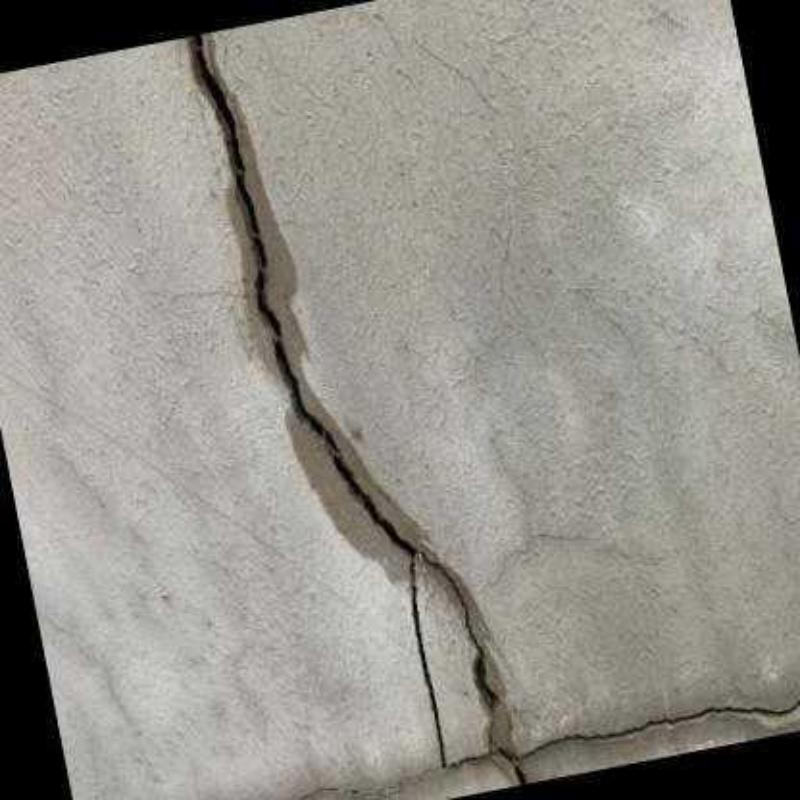pothole: (186, 31, 800, 798)
